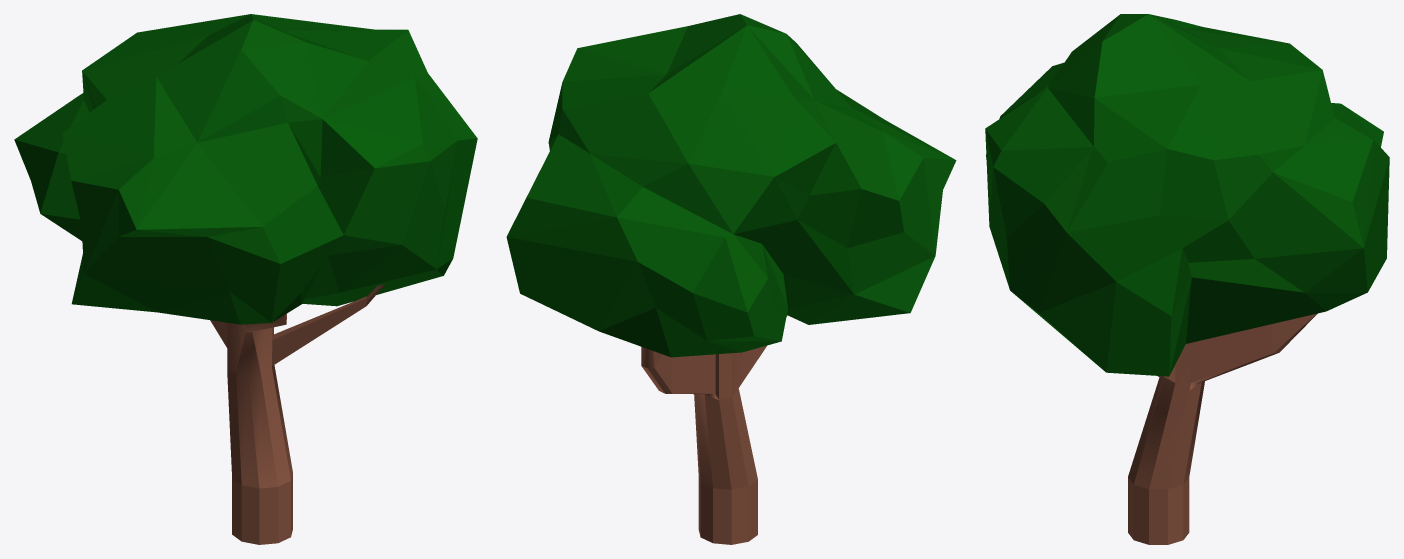
Rendered from tree1.fbx.
3 renders of one model, left to right at view 1: azimuth 30°, elevation 25°; view 2: azimuth 150°, elevation 25°; view 3: azimuth 270°, elevation 25°, orthographic. The views are drawn at different scales.
Parts seen in each view (by area): view 1: Leaves, Trunk; view 2: Leaves, Trunk; view 3: Leaves, Trunk.
Boxes of the visible parts, x1=… form: Leaves: x1=14, y1=14, x2=477, y2=324; Trunk: x1=210, y1=284, x2=385, y2=544; Leaves: x1=506, y1=14, x2=956, y2=357; Trunk: x1=641, y1=315, x2=787, y2=544; Leaves: x1=985, y1=14, x2=1389, y2=376; Trunk: x1=1128, y1=313, x2=1317, y2=544.
Bounding box in the file's own units: 4.14 × 5.55 × 3.98.
